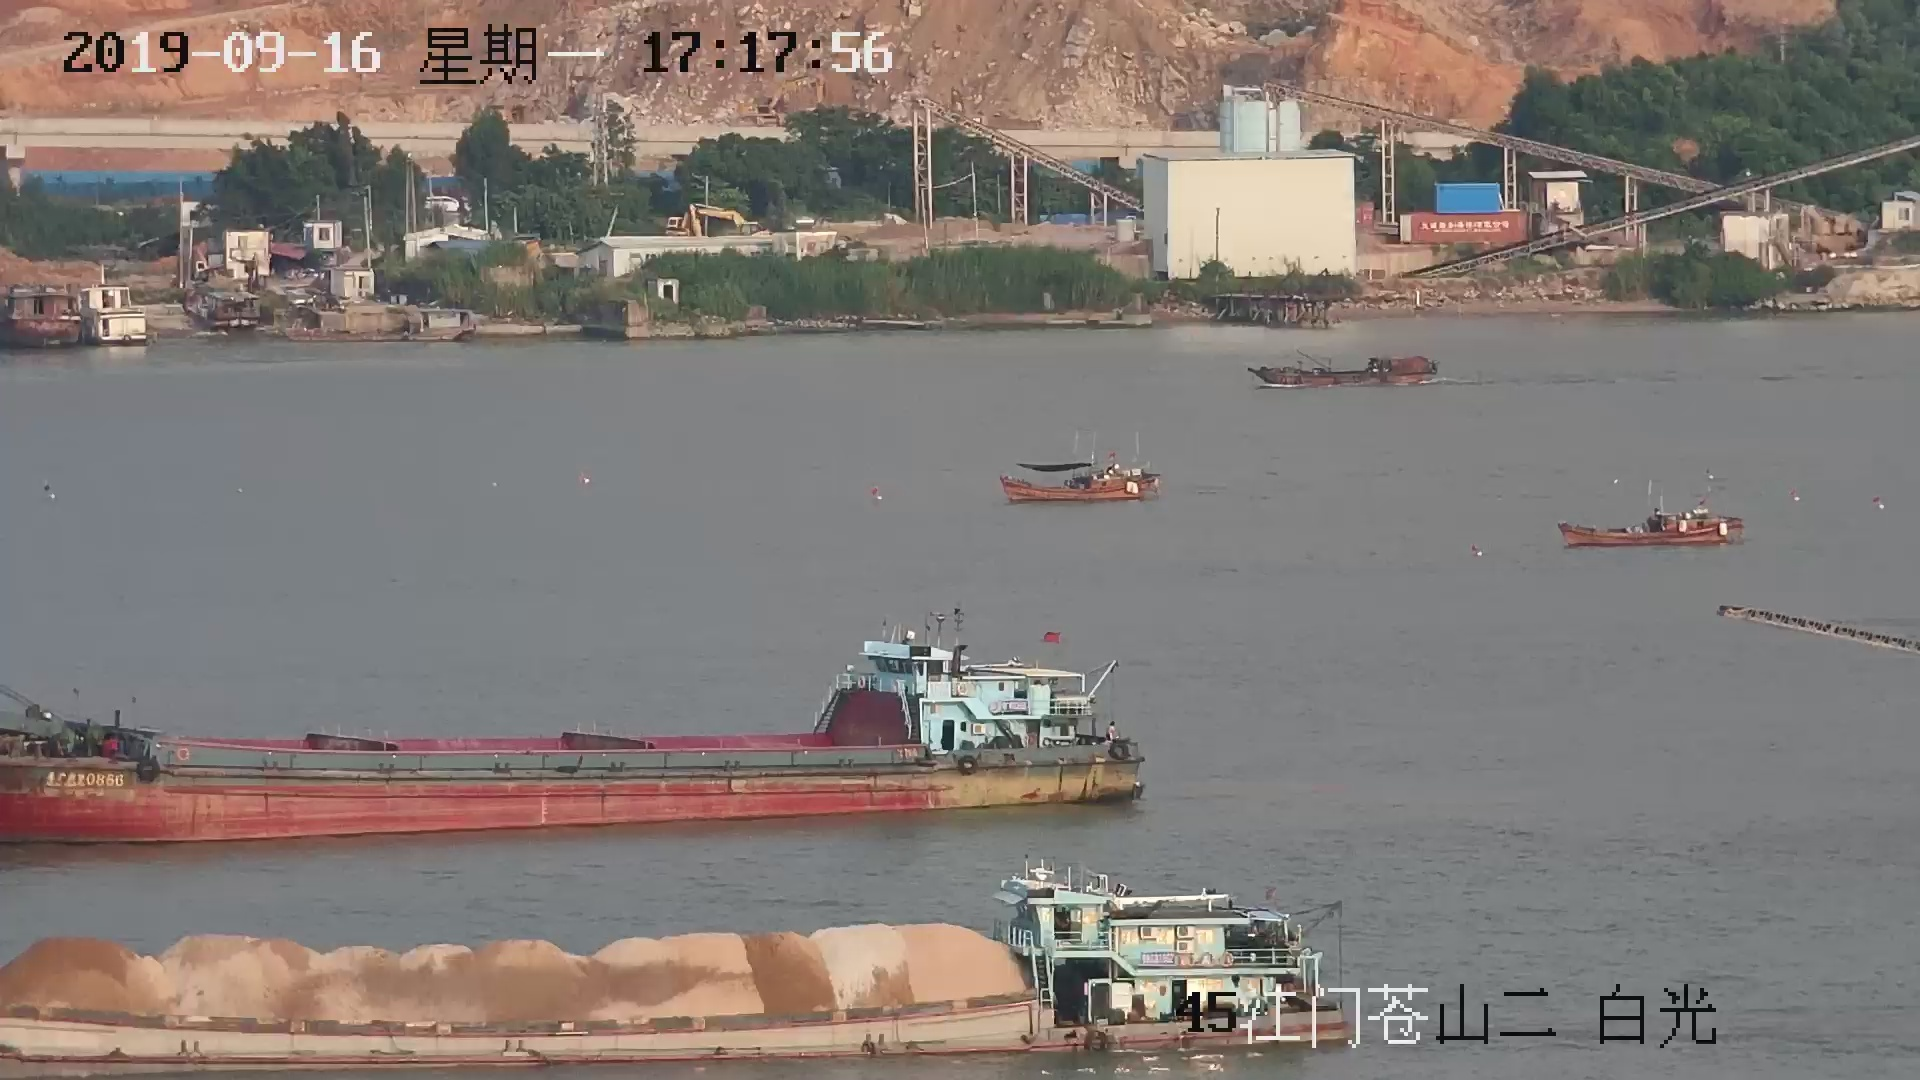ship: (1, 858, 1338, 1073), (1, 592, 1153, 833), (1557, 473, 1749, 553), (1001, 430, 1164, 508), (1245, 347, 1443, 392)
